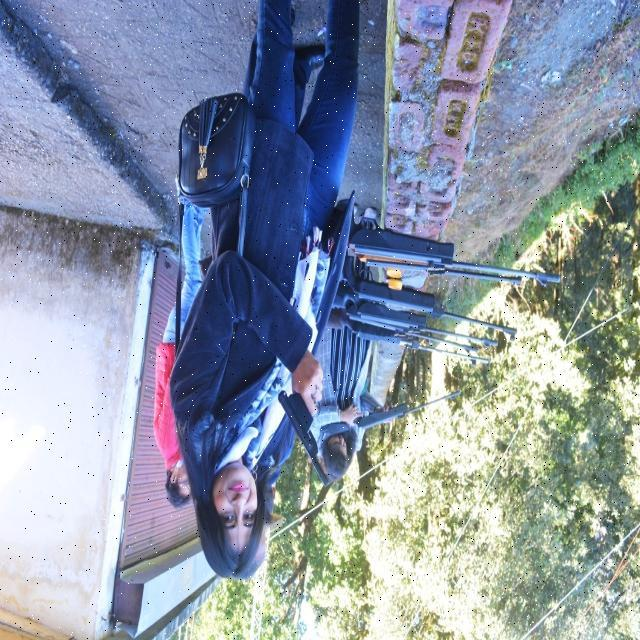gun: (340, 253, 518, 344), (348, 215, 561, 283), (327, 309, 490, 364), (269, 384, 336, 495), (326, 387, 464, 437)
